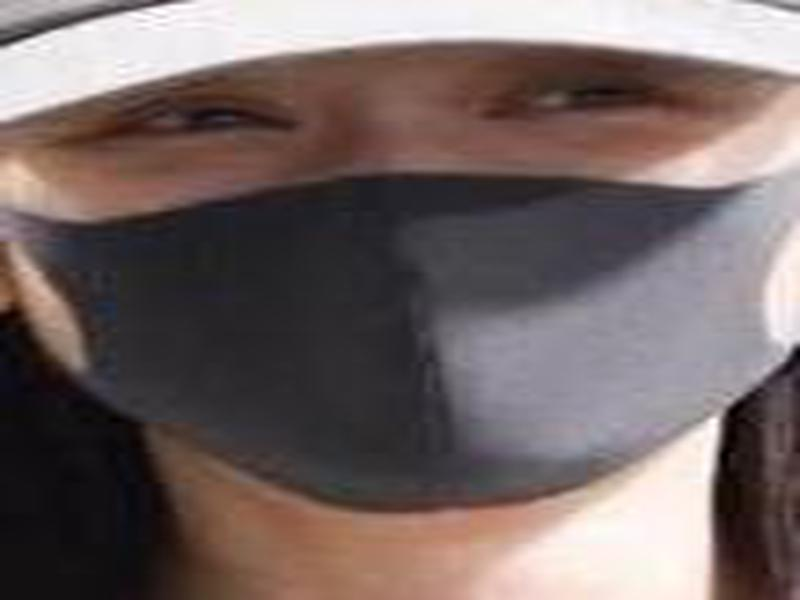with_mask: (1, 46, 797, 512)
